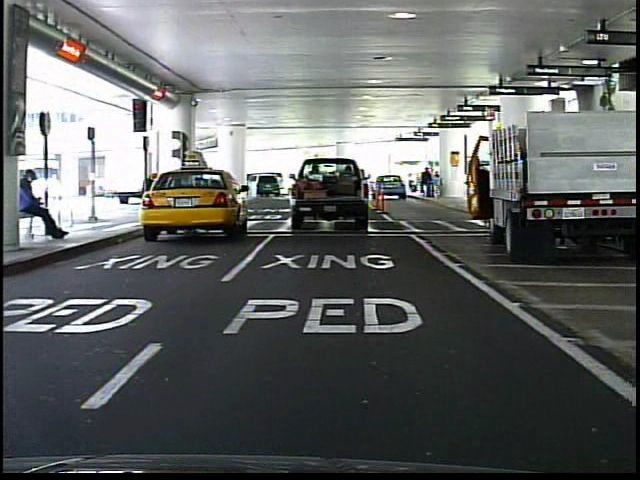person: (22, 164, 76, 245), (139, 166, 161, 220)
